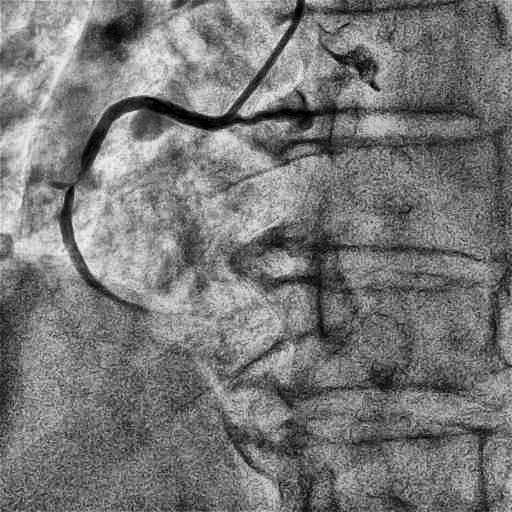rca: (60, 96, 220, 315)
